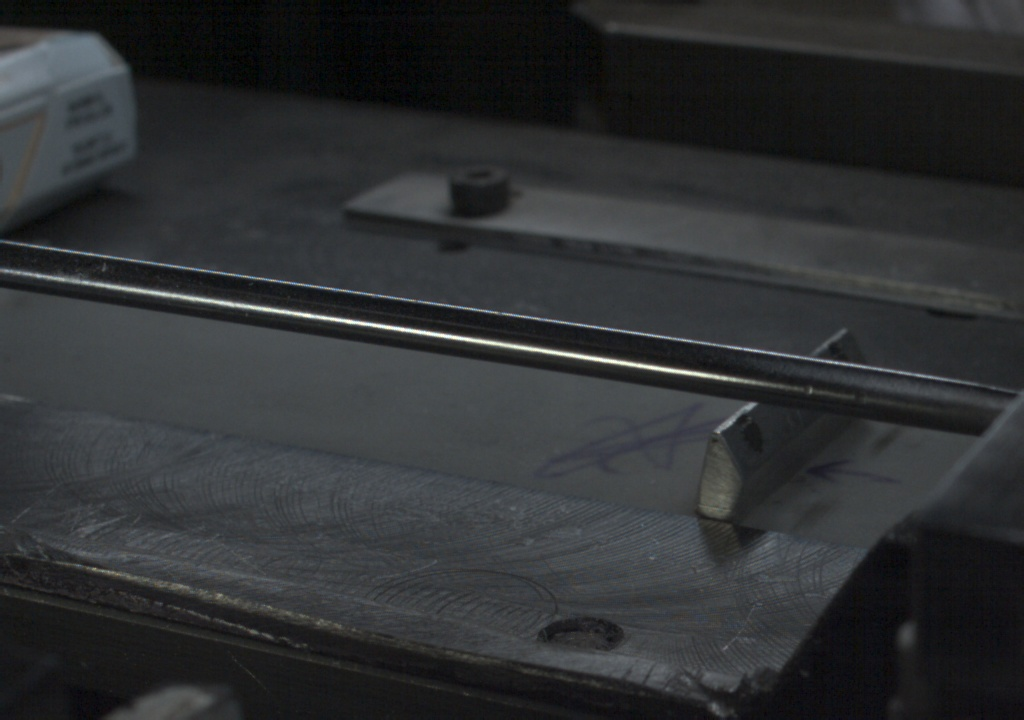empty: (232, 205, 834, 552)
